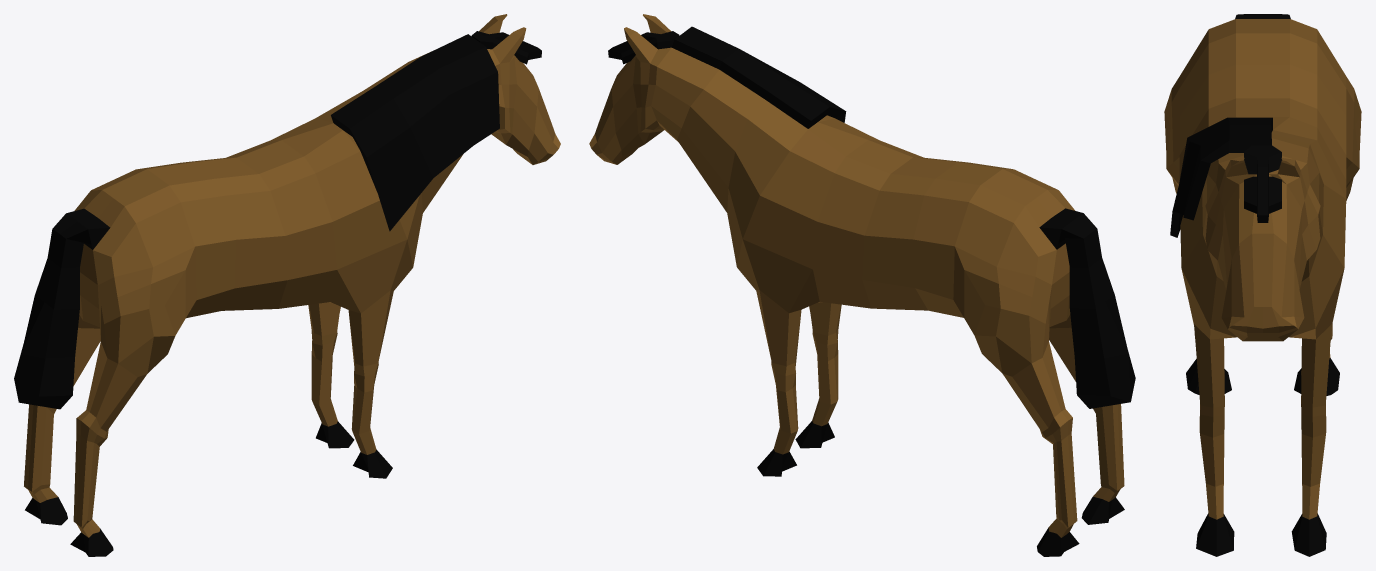
File: horse.fbx
3 views of the same model, side by side, from view 1: azimuth 30°, elevation 25°; view 2: azimuth 150°, elevation 25°; view 3: azimuth 270°, elevation 25° (orthographic). The views are drawn at different scales.
Parts seen in each view (by area): view 1: Plane; view 2: Plane; view 3: Plane.
Part boxes in pixels (left/top/right/bottom): Plane: left=14, top=14, right=560, bottom=556; Plane: left=589, top=14, right=1135, bottom=556; Plane: left=1164, top=14, right=1361, bottom=556.
Bounding box in the file's own units: 344 × 251 × 91.79.
